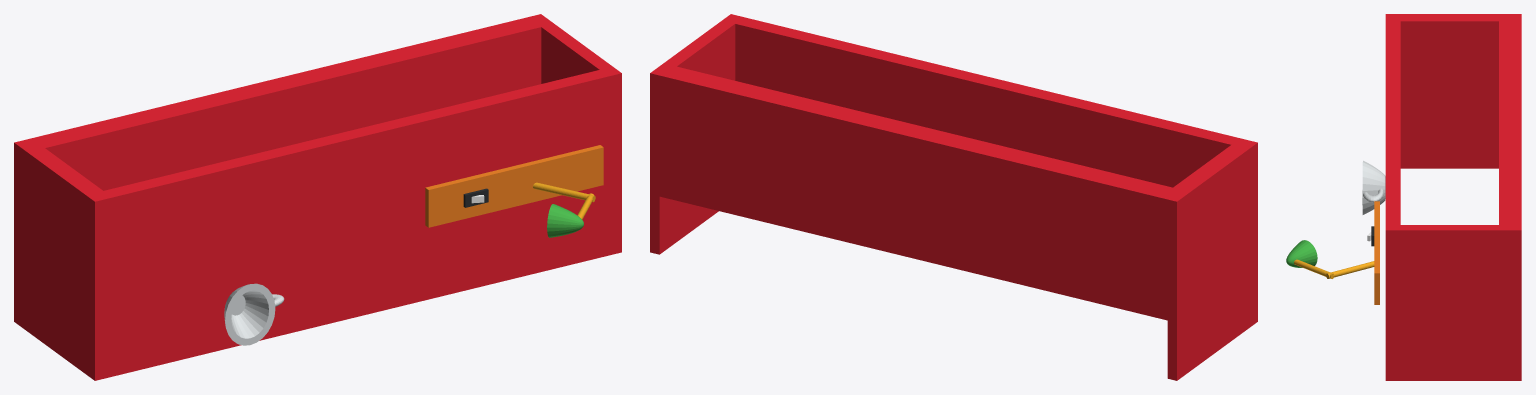
The model's file is tinker.obj.
The picture shows the model from 3 angles, left to right: view 1: azimuth 30°, elevation 25°; view 2: azimuth 150°, elevation 25°; view 3: azimuth 270°, elevation 25°; orthographic projection. The views are drawn at different scales.
Parts seen in each view (by area): view 1: group_0_15277357, group_0_16089887, group_0_14541540, group_0_4634441, group_0_16100639; view 2: group_0_15277357; view 3: group_0_15277357, group_0_14541540, group_0_16089887, group_0_4634441, group_0_16100639.
Part boxes in pixels (bbox=[...]): group_0_15277357: bbox=[14, 14, 621, 380]; group_0_16089887: bbox=[425, 145, 603, 227]; group_0_14541540: bbox=[224, 283, 284, 345]; group_0_4634441: bbox=[547, 204, 583, 237]; group_0_16100639: bbox=[533, 182, 595, 219]; group_0_15277357: bbox=[650, 14, 1257, 380]; group_0_15277357: bbox=[1385, 14, 1521, 380]; group_0_14541540: bbox=[1362, 160, 1385, 214]; group_0_16089887: bbox=[1374, 201, 1379, 304]; group_0_4634441: bbox=[1286, 240, 1317, 267]; group_0_16100639: bbox=[1294, 259, 1374, 278].
Bounding box in the file's own units: 90.26 × 29.33 × 41.52.
